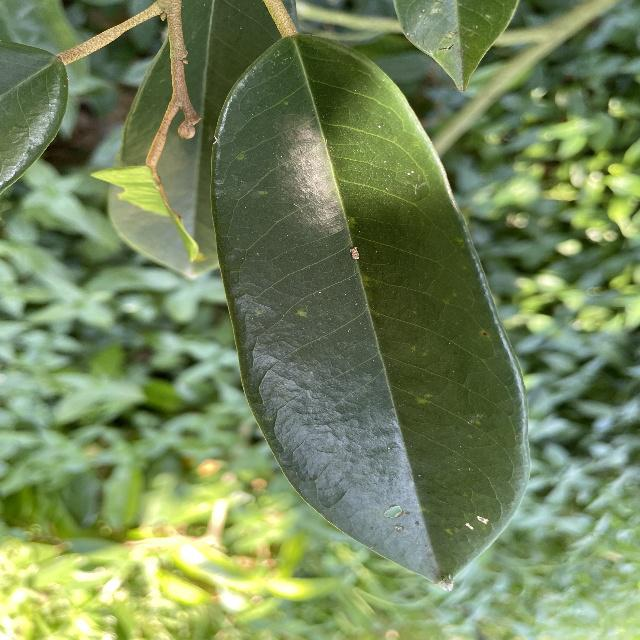No Disease: (197, 21, 543, 596)
